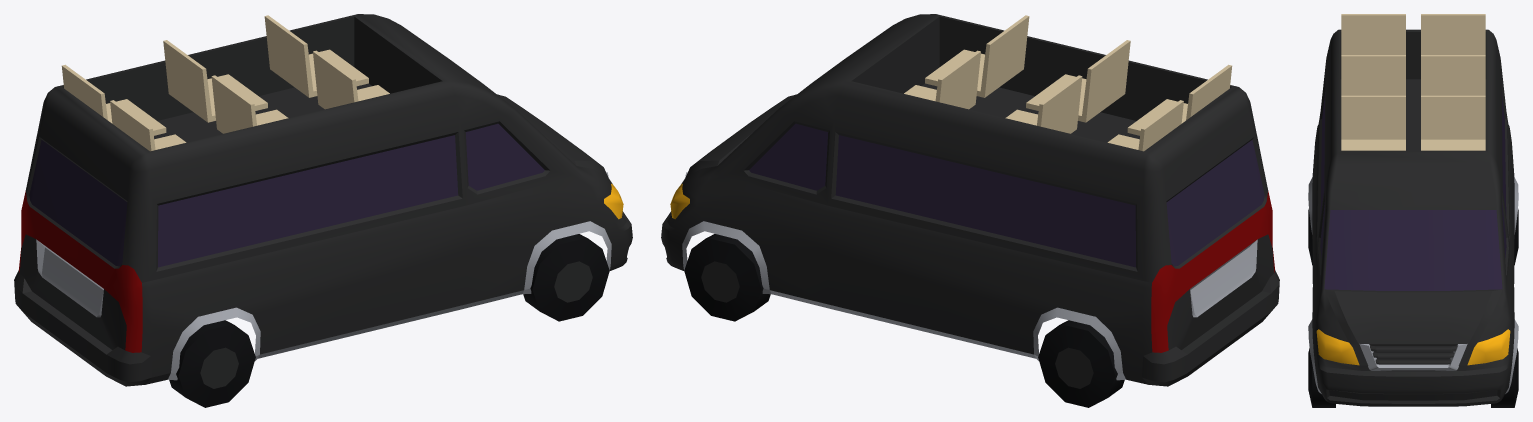
Rendered from Vipcar_open.fbx.
3 renders of one model, left to right at view 1: azimuth 30°, elevation 25°; view 2: azimuth 150°, elevation 25°; view 3: azimuth 270°, elevation 25°, orthographic. The views are drawn at different scales.
Visible parts, largest first — view 1: Vipcar_open, Lightmesh_1; view 2: Vipcar_open, Lightmesh_1; view 3: Vipcar_open, Lightmesh_2.
Part boxes in pixels (x1,y1,x2,y2): Vipcar_open: (14, 14, 632, 407); Lightmesh_1: (19, 191, 142, 352); Vipcar_open: (661, 14, 1279, 407); Lightmesh_1: (1151, 191, 1274, 352); Vipcar_open: (1308, 14, 1518, 407); Lightmesh_2: (1316, 329, 1510, 365).
Bounding box in the file's own units: 23.03 × 11.49 × 9.67.
